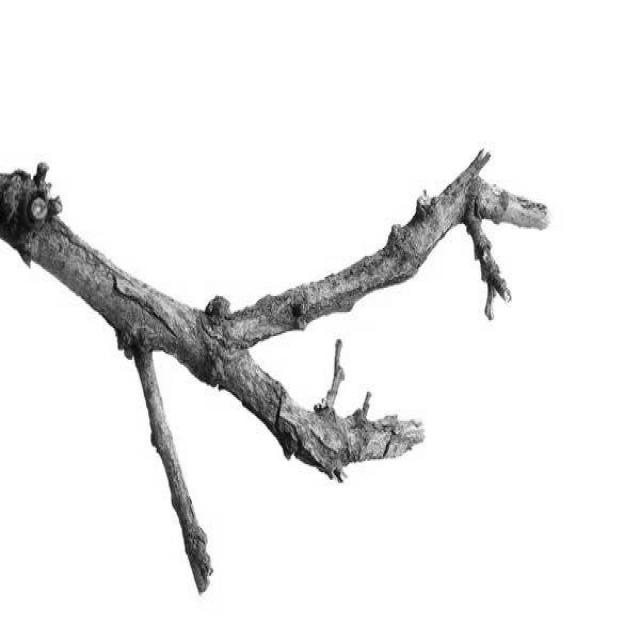Tree: (1, 150, 550, 590)
